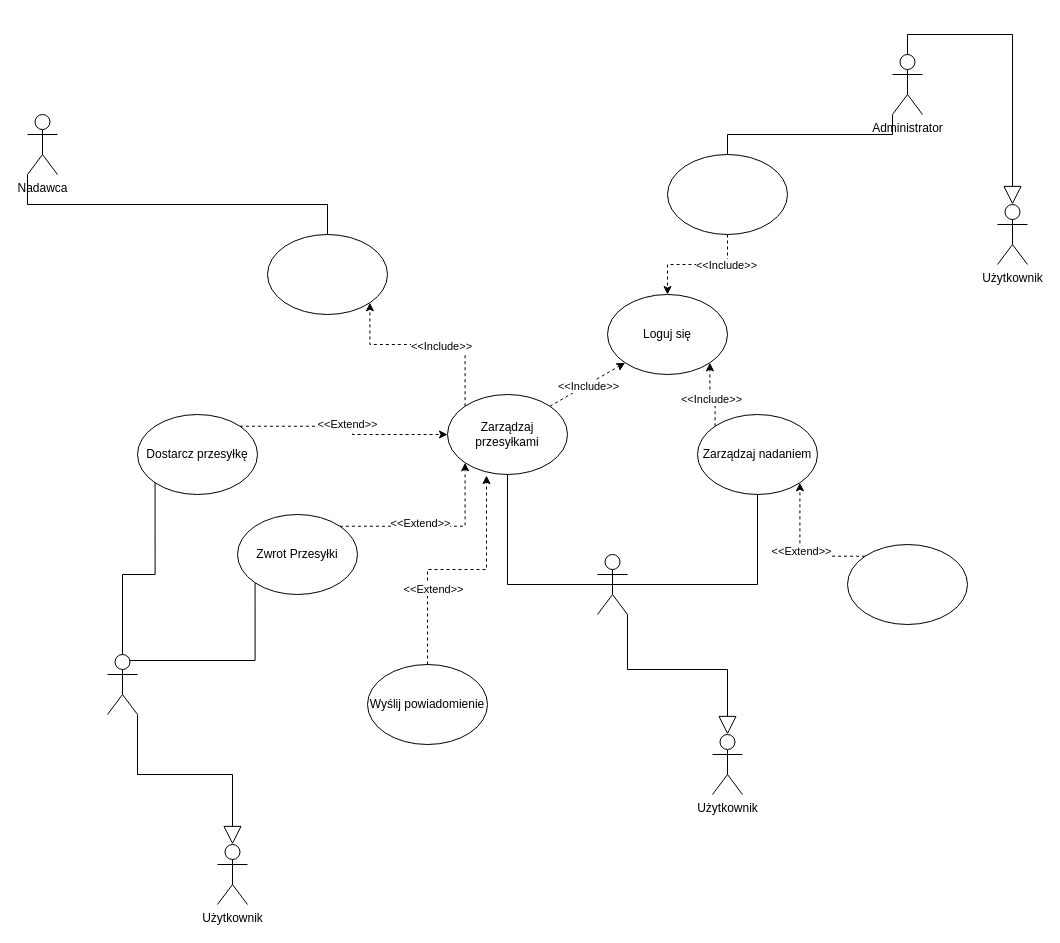
Image size: 1060x943. Some labels were removed from this diagram. Each missing label, with the box of its shape:
Administruj systemem: (666, 154, 788, 234)
Kurier: (106, 654, 138, 714)
Pracownik: (596, 554, 628, 614)
Rejestracja paczki: (846, 544, 968, 624)
Sprawdź stan przesyłki: (266, 234, 388, 314)
